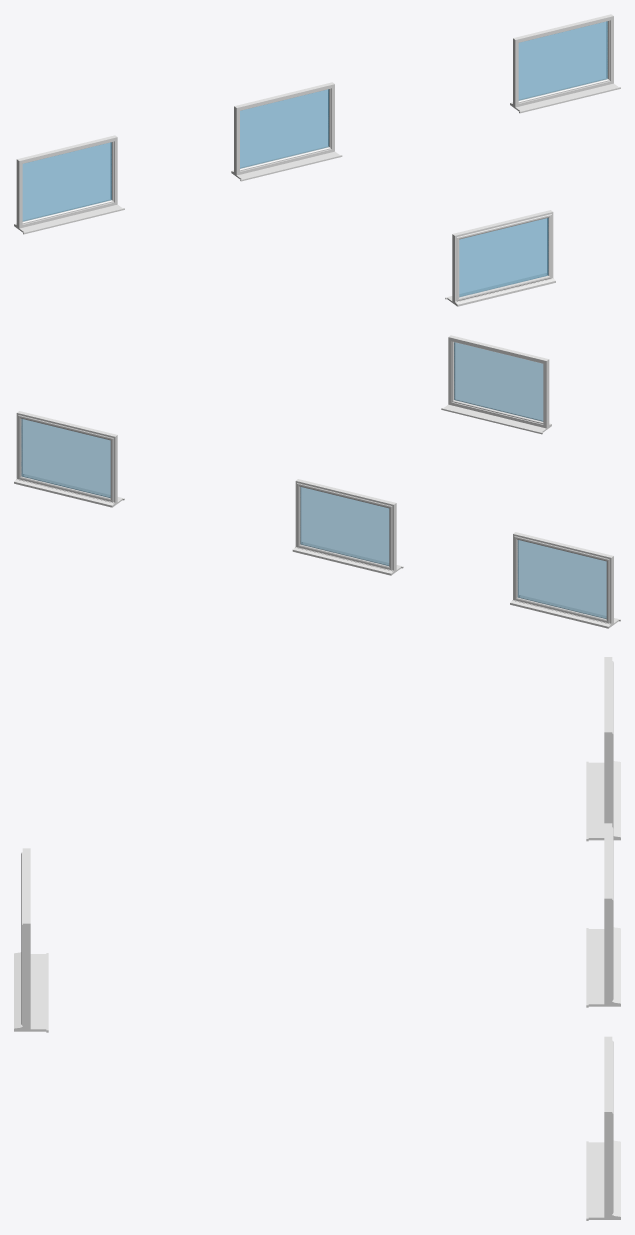
Rendered from Ifc4_SampleHouse_IfcWindow.obj.
The picture shows the model from 3 angles, top to bottom: view 1: azimuth 30°, elevation 25°; view 2: azimuth 150°, elevation 25°; view 3: azimuth 270°, elevation 25°; orthographic projection. The views are drawn at different scales.
Visible parts, largest first — view 1: Windows_Sgl_Plain_1810x1210mm_286238_3cUkl32yn9qRSPvBJVyWe9, Windows_Sgl_Plain_1810x1210mm_286188_3cUkl32yn9qRSPvBJVyWdx, Windows_Sgl_Plain_1810x1210mm_286105_3cUkl32yn9qRSPvBJVyWcE, Windows_Sgl_Plain_1810x1210mm_287567_3cUkl32yn9qRSPvBJVyZTO; view 2: Windows_Sgl_Plain_1810x1210mm_287567_3cUkl32yn9qRSPvBJVyZTO, Windows_Sgl_Plain_1810x1210mm_286105_3cUkl32yn9qRSPvBJVyWcE, Windows_Sgl_Plain_1810x1210mm_286188_3cUkl32yn9qRSPvBJVyWdx, Windows_Sgl_Plain_1810x1210mm_286238_3cUkl32yn9qRSPvBJVyWe9; view 3: Windows_Sgl_Plain_1810x1210mm_286188_3cUkl32yn9qRSPvBJVyWdx, Windows_Sgl_Plain_1810x1210mm_287567_3cUkl32yn9qRSPvBJVyZTO, Windows_Sgl_Plain_1810x1210mm_286105_3cUkl32yn9qRSPvBJVyWcE, Windows_Sgl_Plain_1810x1210mm_286238_3cUkl32yn9qRSPvBJVyWe9.
Boxes of the visible parts, x1,y1,x2,y2 form: Windows_Sgl_Plain_1810x1210mm_286238_3cUkl32yn9qRSPvBJVyWe9: (14, 135, 124, 234); Windows_Sgl_Plain_1810x1210mm_286188_3cUkl32yn9qRSPvBJVyWdx: (231, 82, 342, 181); Windows_Sgl_Plain_1810x1210mm_286105_3cUkl32yn9qRSPvBJVyWcE: (510, 14, 620, 113); Windows_Sgl_Plain_1810x1210mm_287567_3cUkl32yn9qRSPvBJVyZTO: (445, 210, 555, 306); Windows_Sgl_Plain_1810x1210mm_287567_3cUkl32yn9qRSPvBJVyZTO: (441, 335, 551, 434); Windows_Sgl_Plain_1810x1210mm_286105_3cUkl32yn9qRSPvBJVyWcE: (14, 411, 124, 507); Windows_Sgl_Plain_1810x1210mm_286188_3cUkl32yn9qRSPvBJVyWdx: (292, 479, 403, 575); Windows_Sgl_Plain_1810x1210mm_286238_3cUkl32yn9qRSPvBJVyWe9: (510, 532, 620, 628); Windows_Sgl_Plain_1810x1210mm_286188_3cUkl32yn9qRSPvBJVyWdx: (586, 823, 620, 1007); Windows_Sgl_Plain_1810x1210mm_287567_3cUkl32yn9qRSPvBJVyZTO: (14, 848, 48, 1032); Windows_Sgl_Plain_1810x1210mm_286105_3cUkl32yn9qRSPvBJVyWcE: (586, 1036, 620, 1220); Windows_Sgl_Plain_1810x1210mm_286238_3cUkl32yn9qRSPvBJVyWe9: (586, 657, 620, 841).
Size of the model in its own units: 10.98 by 1.21 by 6.17.
